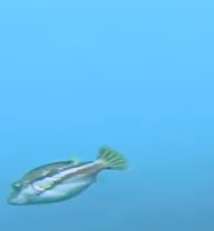hugu: (4, 147, 129, 205)
